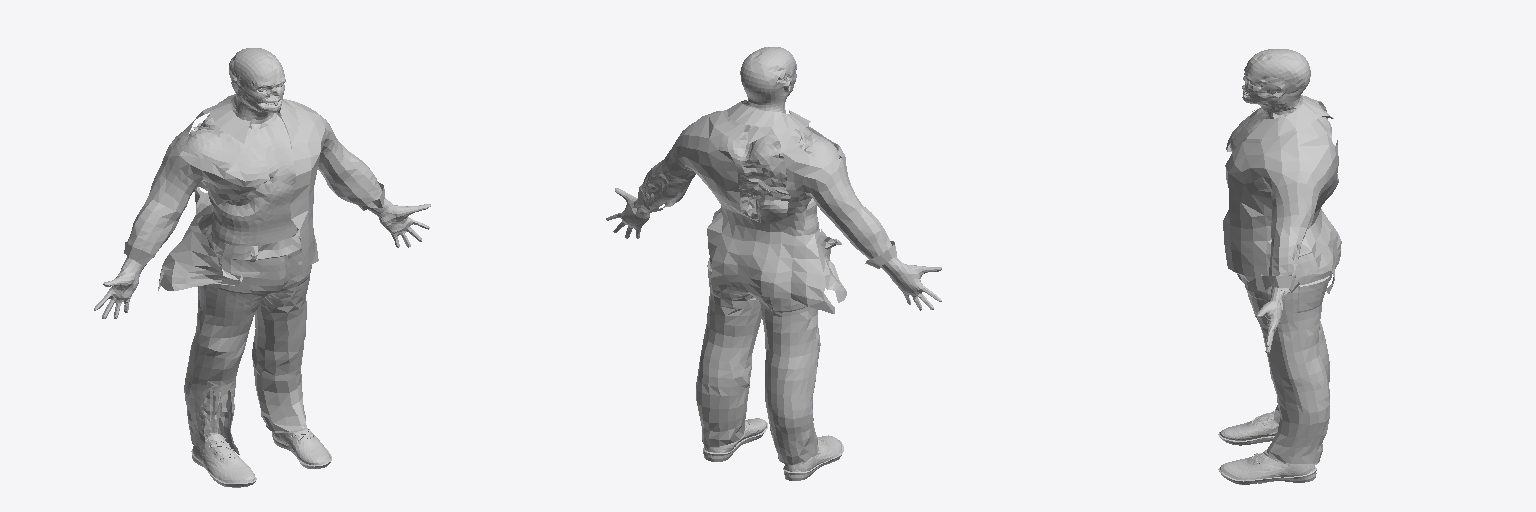
File: zom2.obj
3 renders of one model, left to right at view 1: azimuth 30°, elevation 25°; view 2: azimuth 150°, elevation 25°; view 3: azimuth 270°, elevation 25°, orthographic.
Visible parts, largest first — view 1: zombi; view 2: zombi; view 3: zombi.
Part boxes in pixels (bbox=[...]): zombi: bbox=[94, 48, 430, 487]; zombi: bbox=[606, 47, 941, 480]; zombi: bbox=[1218, 49, 1341, 484].
Size of the model in its own units: 27.75 by 32.25 by 8.81.